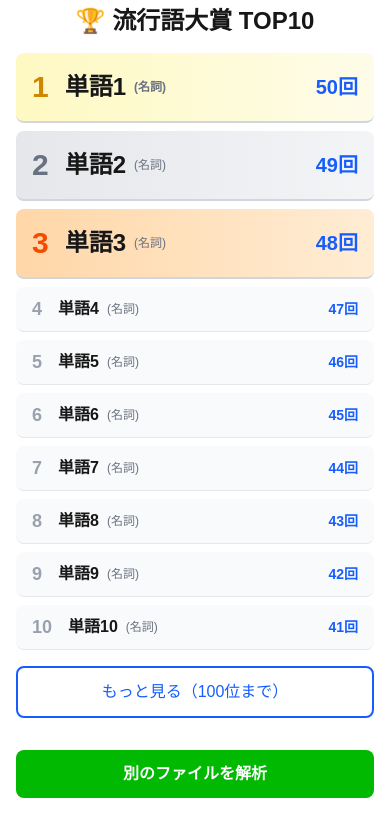
Test: ResultPage 統合テスト › もっと見る機能 › もっと見るボタンをクリックすると追加のランキングが表示される
The image size is (390, 830).
(page scrolled)
Expected: the text "単語10" is shown, [68,615,118,639]
// もっと見るボタンをクリック
Click the button "もっと見る（100位まで）": (195, 692) [16,666,374,718]
(page scrolled)
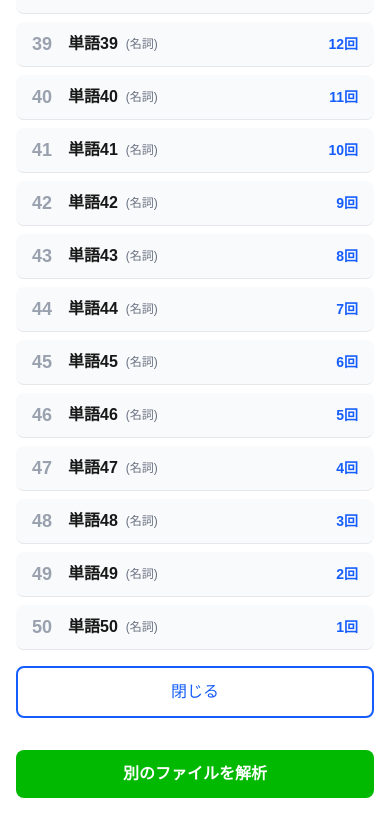
Now the text "単語50" is shown, box [68,615,118,639]
